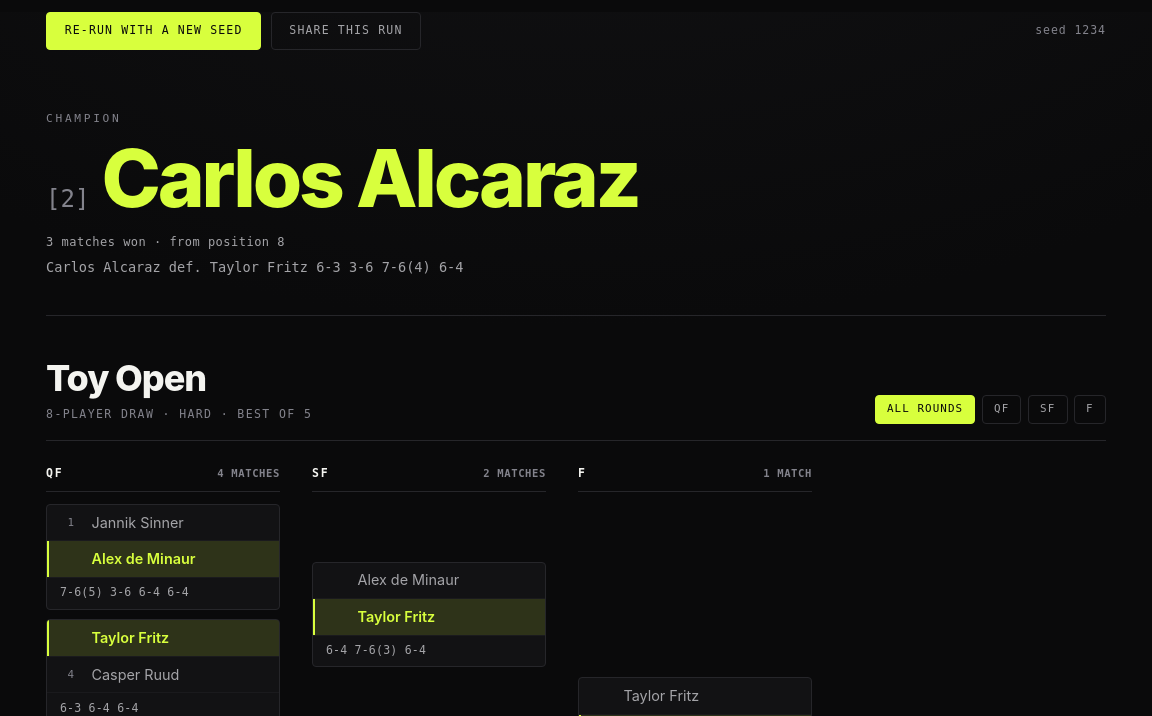
Test: share › copies the tournament, view and seed as one absolute link
This screenshot has width=1152, height=716.
Check: the element "Champion" is shown, box [46,78,1106,316]
Click the button "Share this run" at (346, 31), box [271,12,421,50]
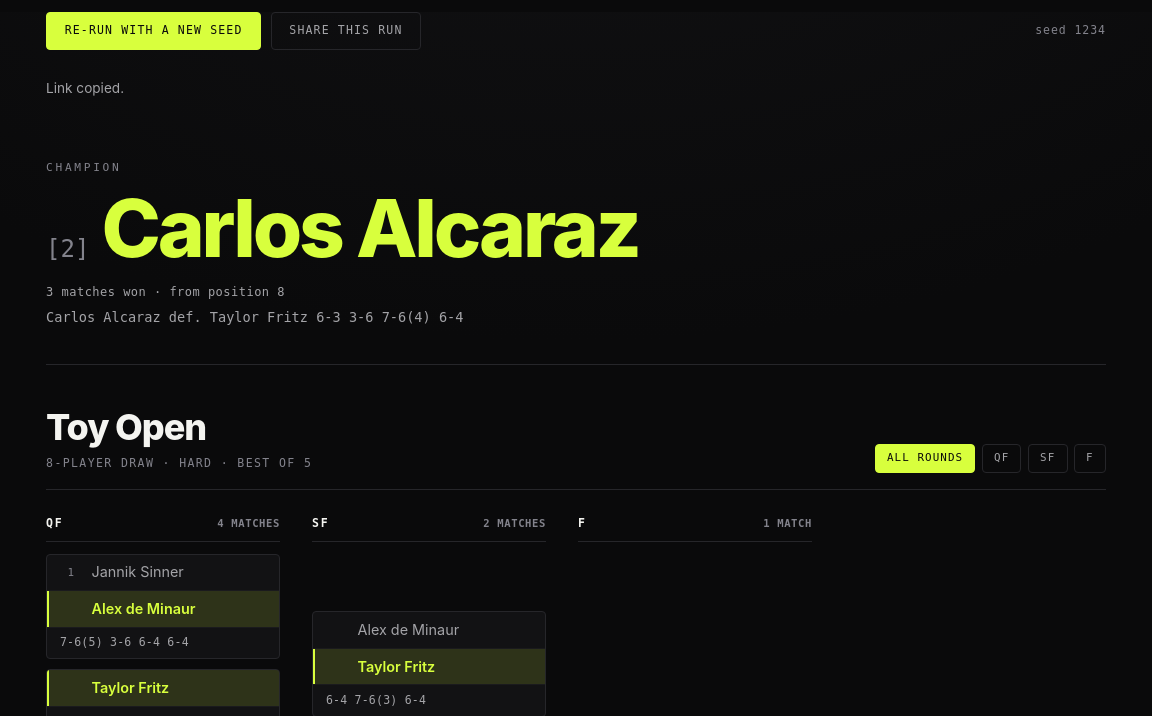
Check: the text "Link copied." is shown, box [46,80,124,96]
